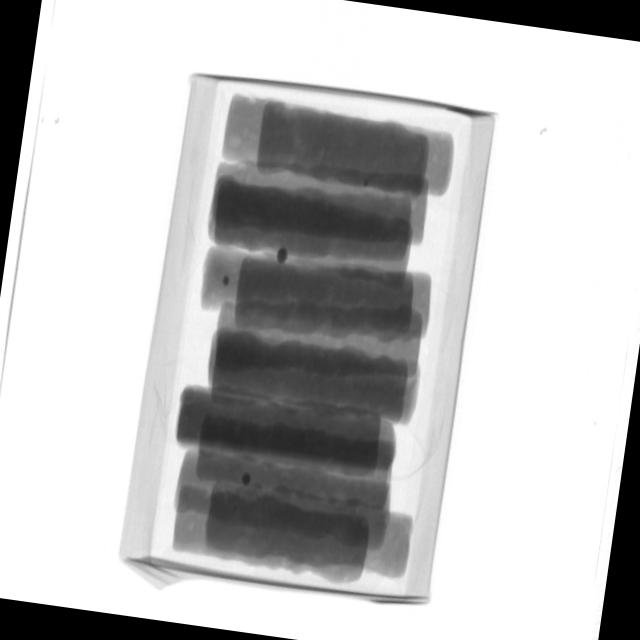ym: (278, 246, 292, 265), (243, 474, 254, 488), (223, 276, 231, 285), (365, 181, 372, 188)
